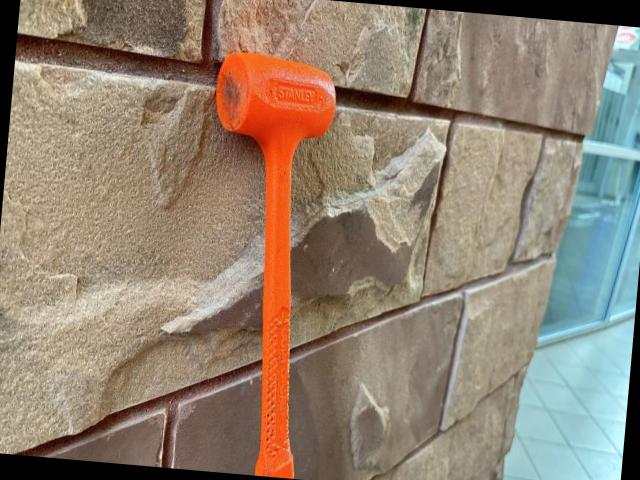hammer: (180, 49, 340, 480)
